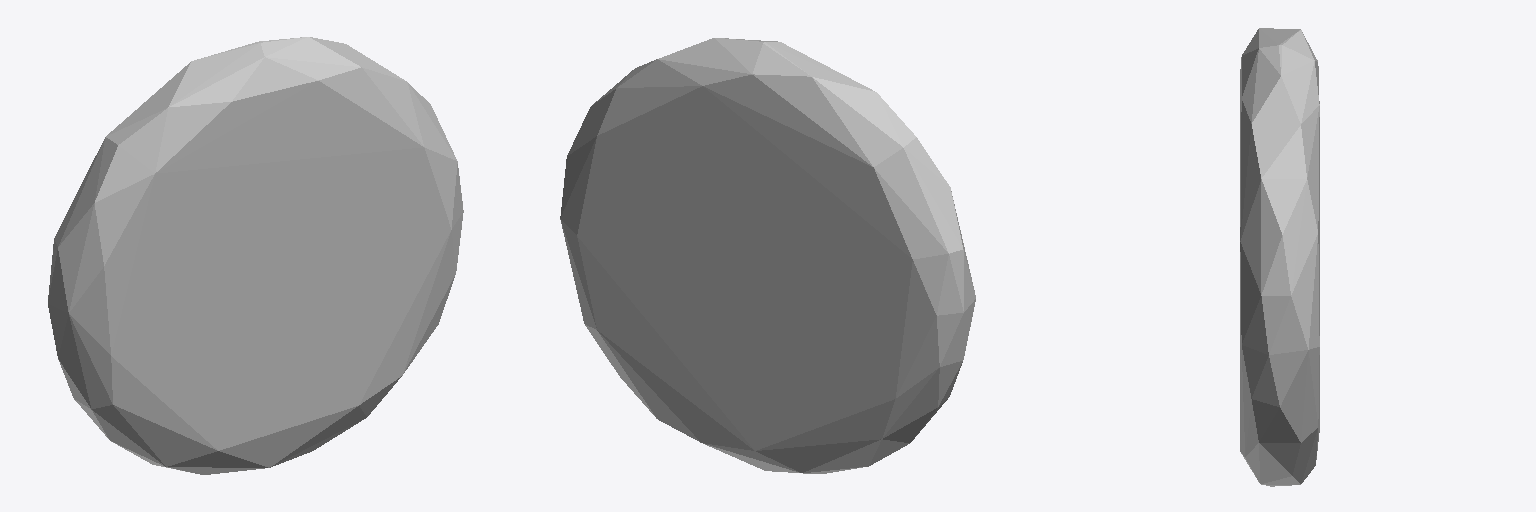
Rendered from pancake_v.obj.
3 views of the same model, side by side, from view 1: azimuth 30°, elevation 25°; view 2: azimuth 150°, elevation 25°; view 3: azimuth 270°, elevation 25° (orthographic).
Visible parts, largest first — view 1: convex_0; view 2: convex_0; view 3: convex_0.
Boxes of the visible parts, box(x1,y1,x2,y2) form: convex_0: box(48, 37, 463, 474); convex_0: box(560, 38, 975, 473); convex_0: box(1240, 28, 1319, 486).
Bounding box in the file's own units: 120 × 120 × 20.32.